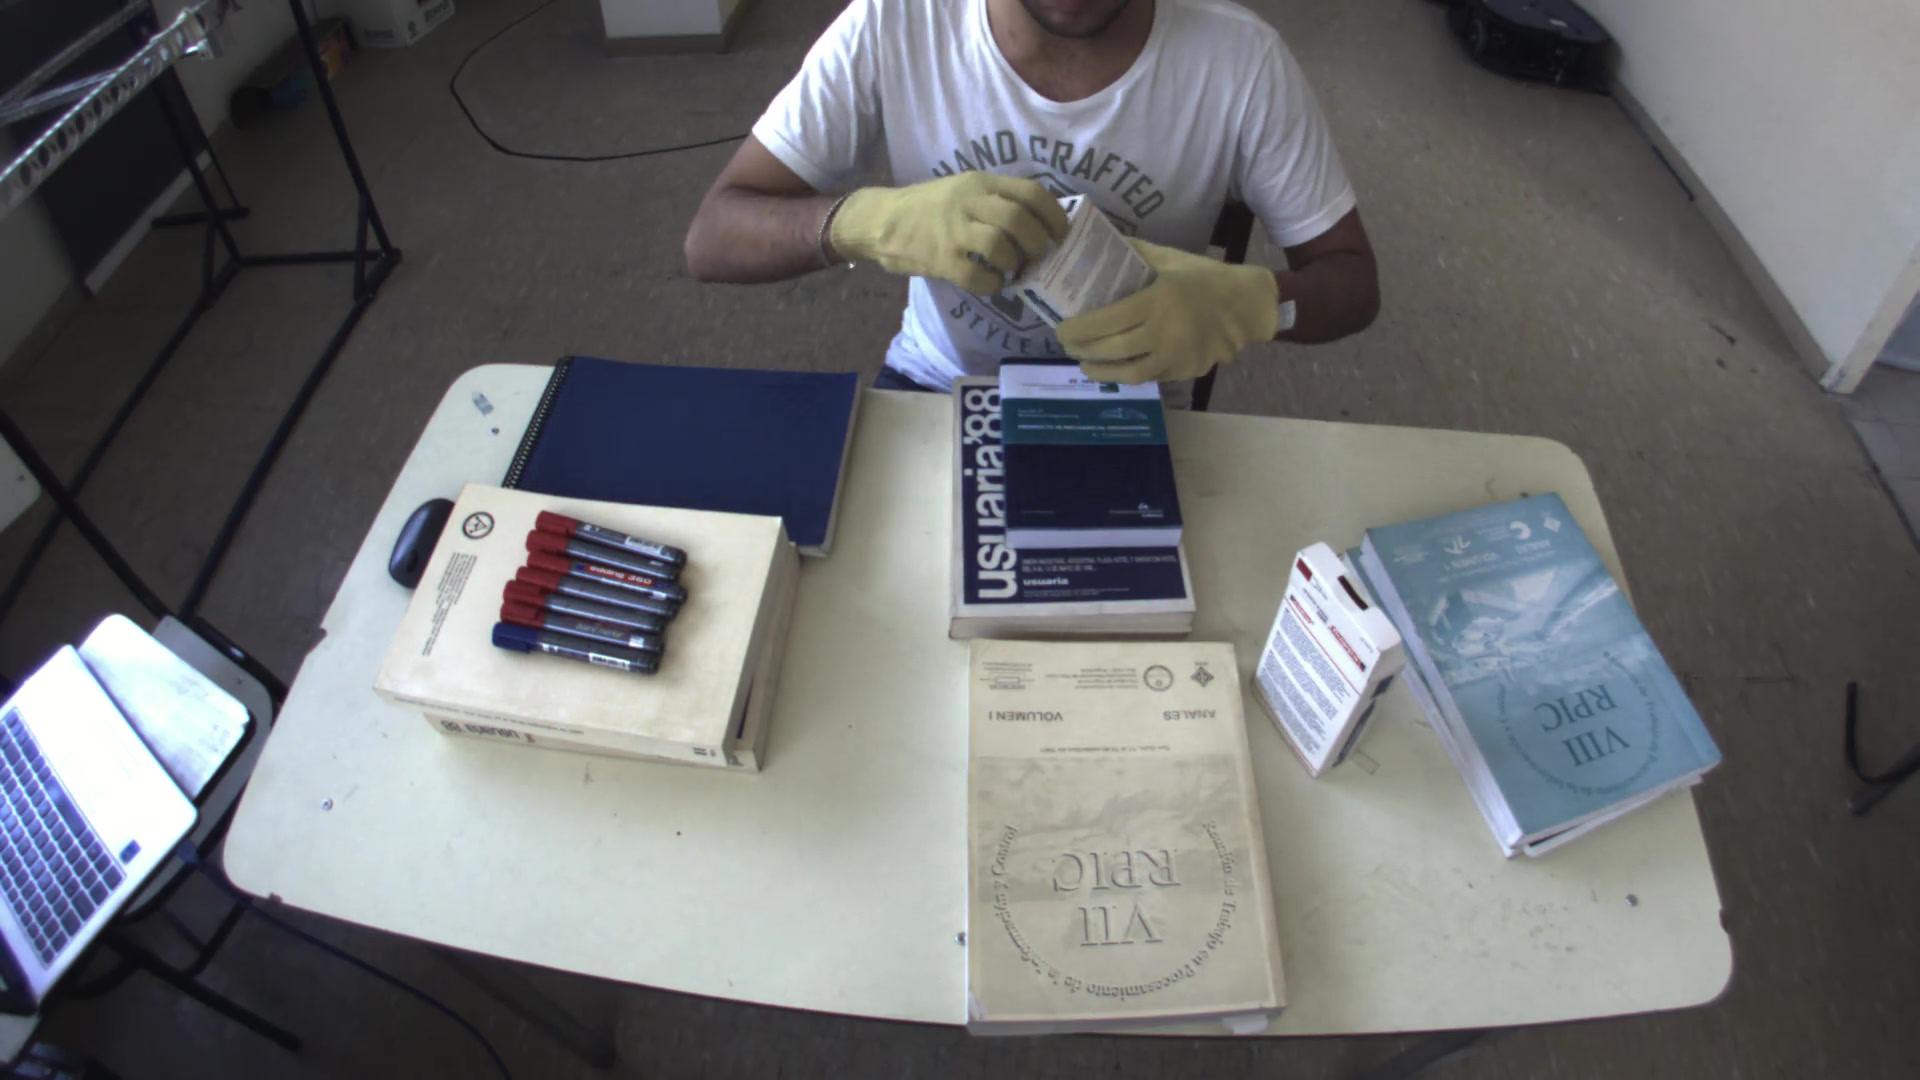hand: (1046, 225, 1299, 390), (820, 153, 1073, 297)
